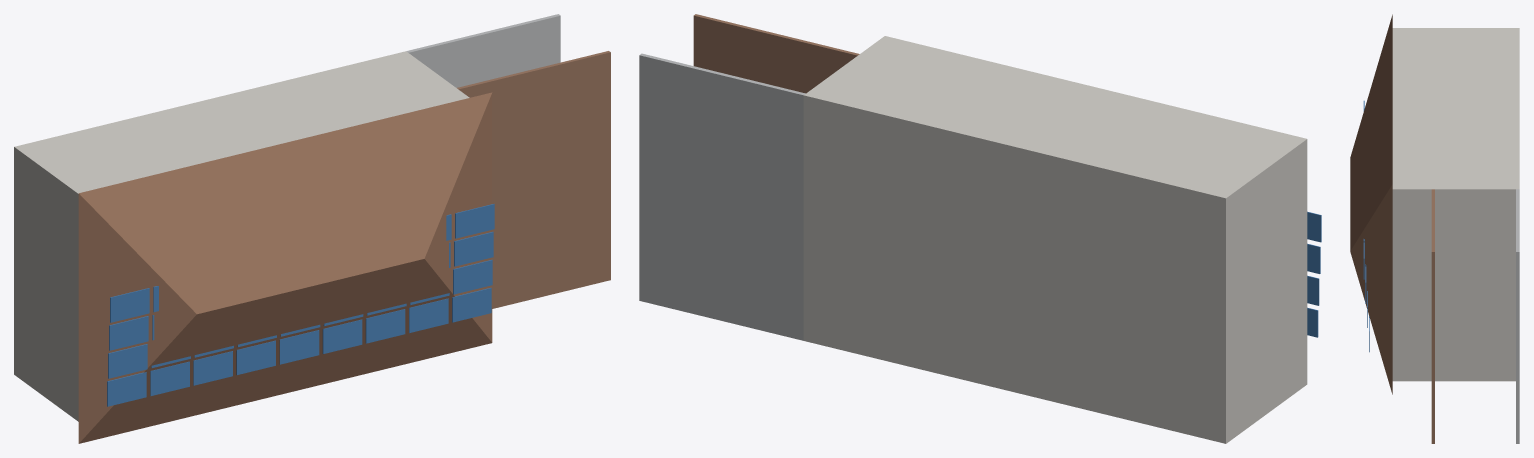
Rendered from generated_96c723bd55.glb.
3 renders of one model, left to right at view 1: azimuth 30°, elevation 25°; view 2: azimuth 150°, elevation 25°; view 3: azimuth 270°, elevation 25°, orthographic. The views are drawn at different scales.
Visible parts, largest first — view 1: hip_roof, house_body, front_porch_roof, front_porch_slab, solar_panel_4, solar_panel_5, solar_panel_6, solar_panel_9, solar_panel_18, solar_panel_27, solar_panel, solar_panel_17 (+7 smaller); view 2: house_body, front_porch_slab, front_porch_roof; view 3: house_body, hip_roof, front_porch_slab, front_porch_roof.
Boxes of the visible parts, x1,y1,x2,y2 form: hip_roof: (78,92,492,443); house_body: (14,51,469,421); front_porch_roof: (457,51,610,308); front_porch_slab: (406,14,560,87); solar_panel_4: (279,330,319,364); solar_panel_5: (322,319,362,353); solar_panel_6: (365,309,405,343); solar_panel_9: (108,344,147,378); solar_panel_18: (109,316,148,350); solar_panel_27: (110,288,149,322); solar_panel: (107,372,146,406); solar_panel_17: (453,260,492,294); house_body: (803,36,1307,443); front_porch_slab: (639,53,805,340); front_porch_roof: (693,14,859,93); house_body: (1392,28,1519,381); hip_roof: (1350,14,1392,394); front_porch_slab: (1516,189,1519,443); front_porch_roof: (1431,189,1434,443).
Size of the model in its own units: 25.5 by 11 by 8.
